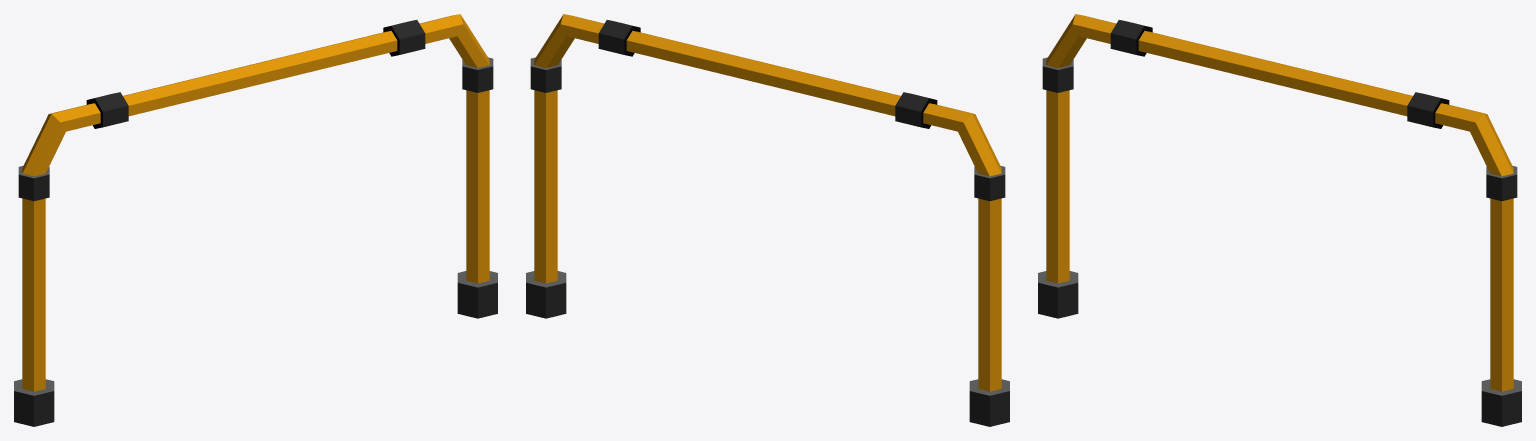
File: Fence_01.glb
The picture shows the model from 3 angles, left to right: view 1: azimuth 30°, elevation 25°; view 2: azimuth 150°, elevation 25°; view 3: azimuth 330°, elevation 25°; orthographic projection.
Visible parts, largest first — view 1: Fence_01; view 2: Fence_01; view 3: Fence_01.
Part boxes in pixels (left/top/right/bottom): Fence_01: left=14, top=14, right=497, bottom=426; Fence_01: left=526, top=14, right=1009, bottom=426; Fence_01: left=1038, top=14, right=1521, bottom=426.
Size of what is drawn, in the model's own units: 1.35 by 0.8083 by 0.0966.
Materials: 1 (1 with a texture image).
